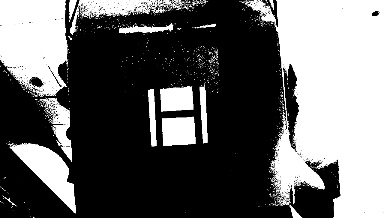H: (147, 87, 206, 145)
